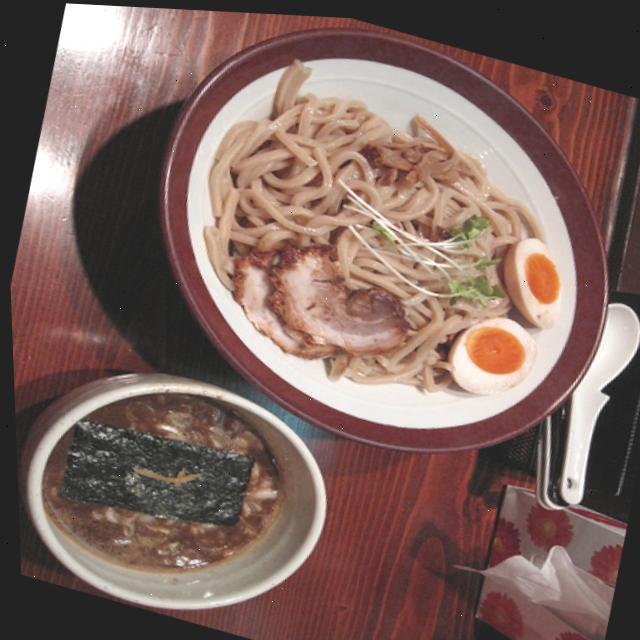面条主食: (11, 34, 607, 640)
